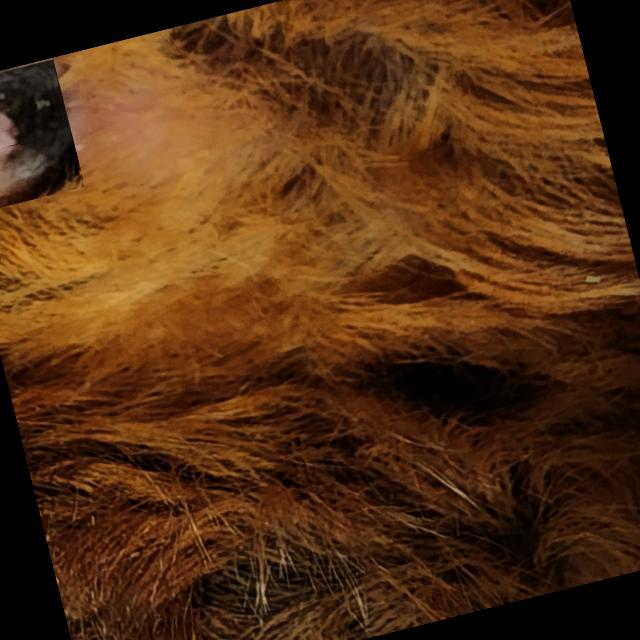mae: (0, 61, 83, 207)
mal: (0, 74, 54, 147)
